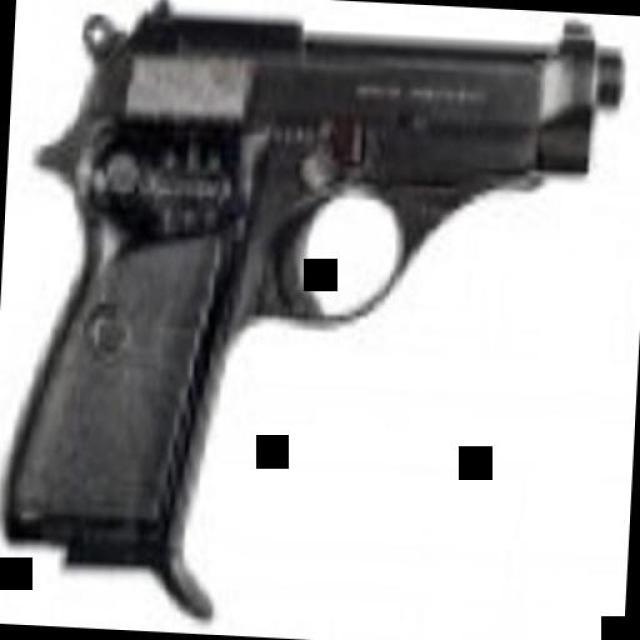gun: (0, 0, 622, 604)
